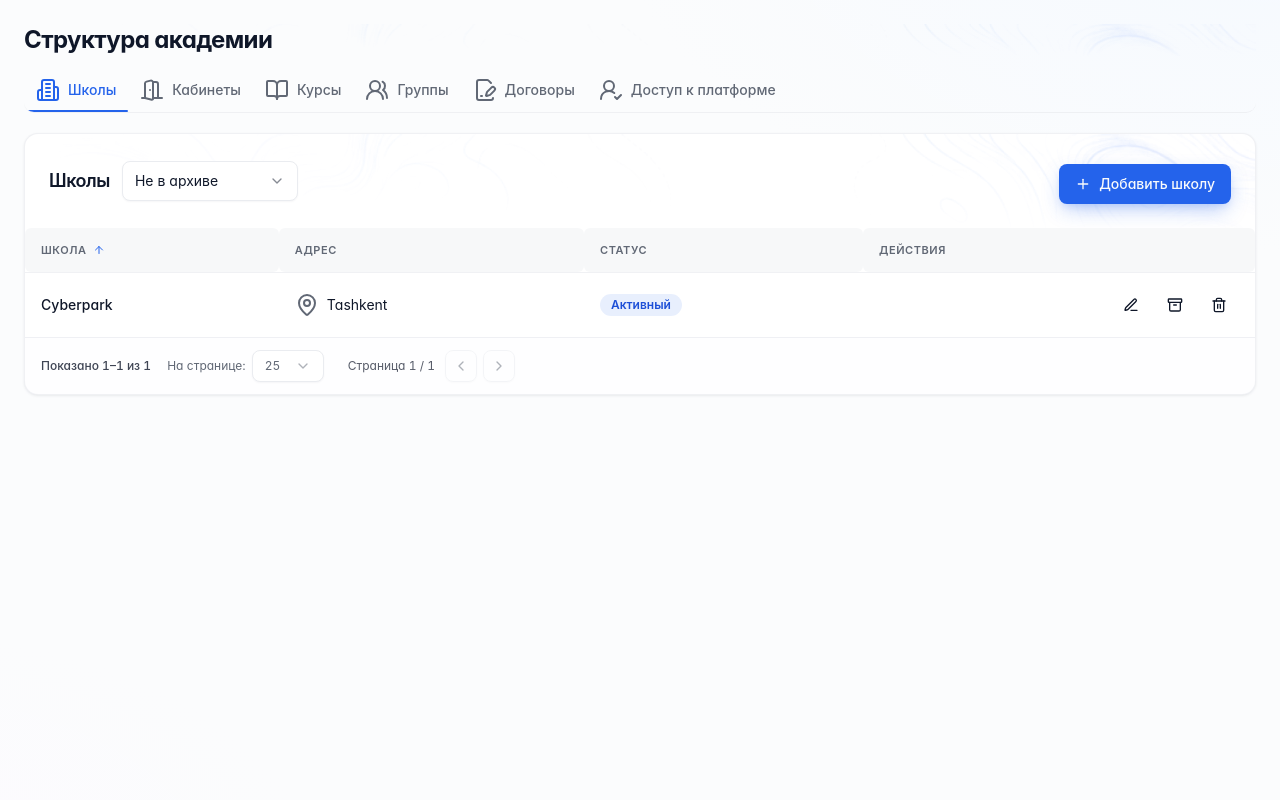
it: school timezone dropdown › defaults a new school to Tashkent and submits only the selected IANA value after an explicit save
Expected: the text "Cyberpark" is shown, x1=41 y1=296 x2=113 y2=312
Click the button "Добавить школу" at (1145, 184), box x1=1059 y1=164 x2=1231 y2=204
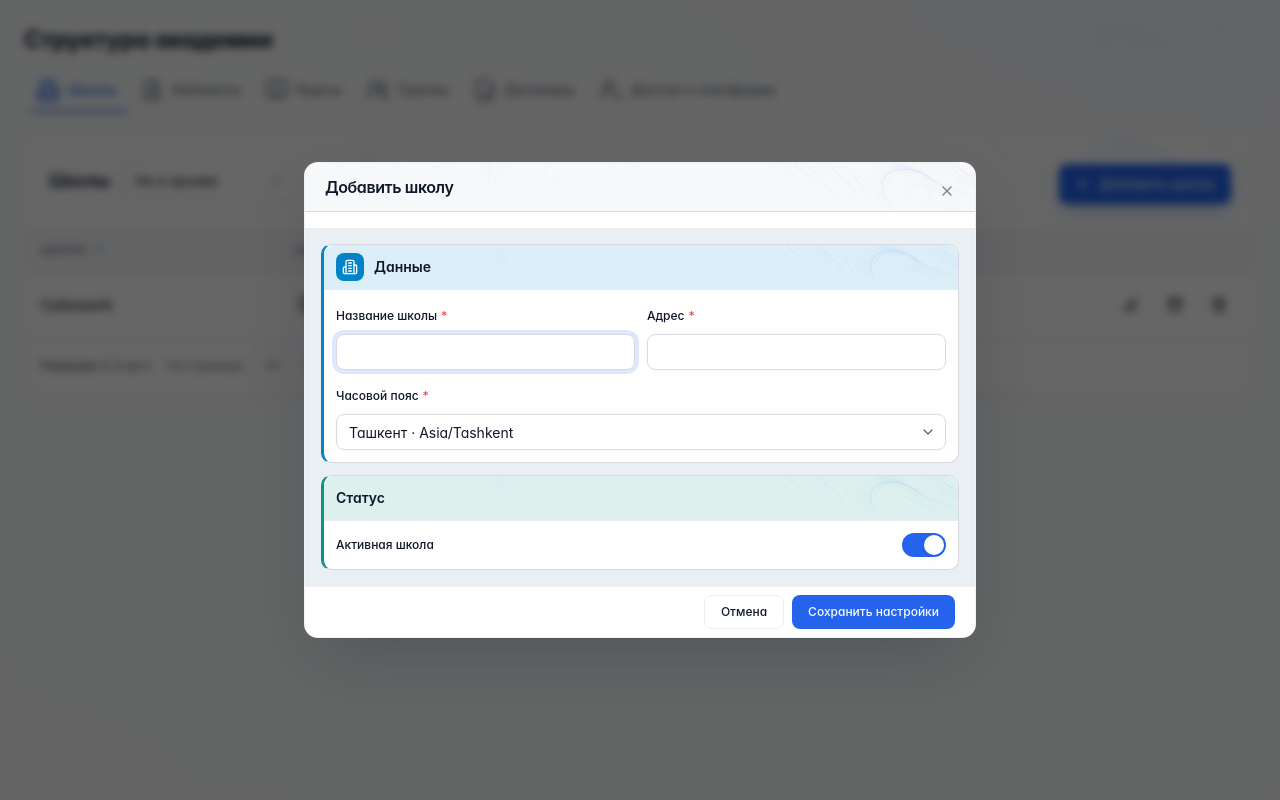
Type "New school" into the field labelled "Название школы" at (486, 352), box x1=336 y1=334 x2=635 y2=370
Type "Samarkand" into the field labelled "Адрес" at (796, 352), box x1=647 y1=334 x2=946 y2=370
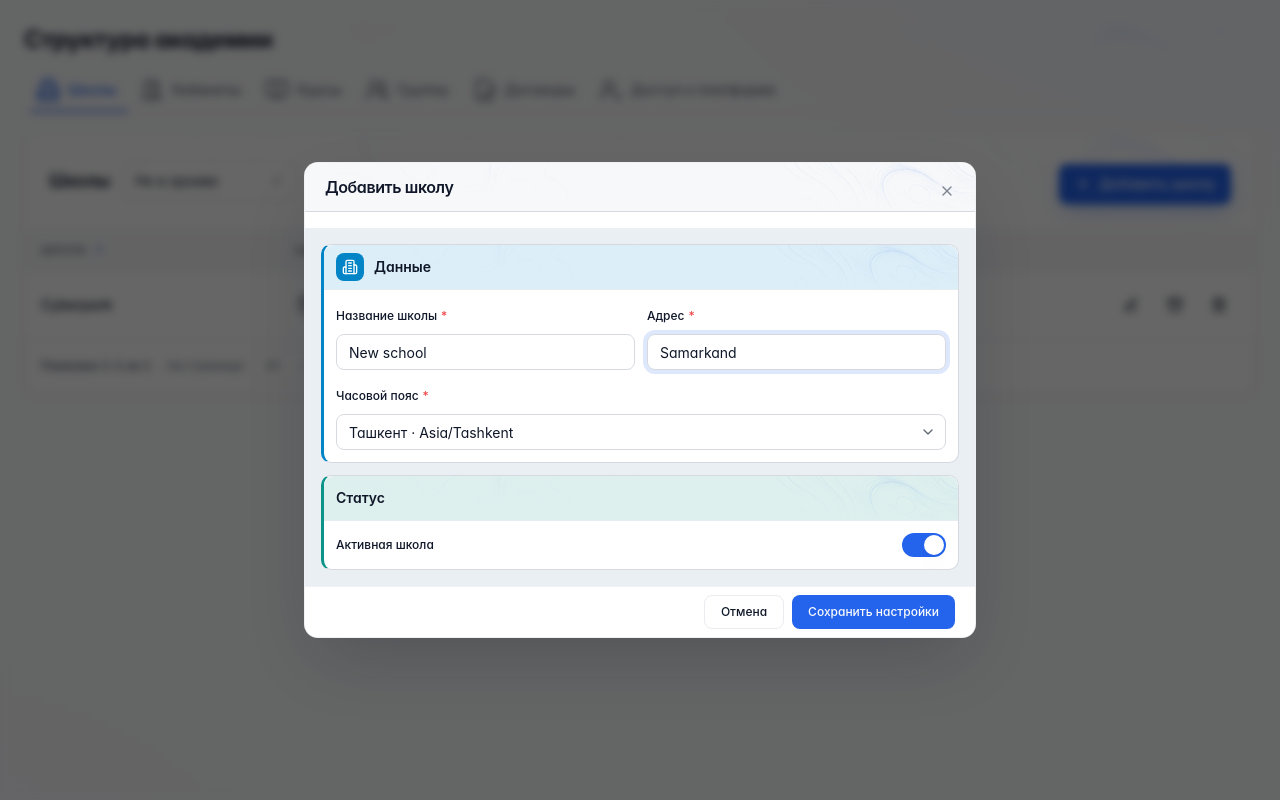
Click the dropdown labelled "Часовой пояс" at (641, 432), box x1=336 y1=414 x2=946 y2=450
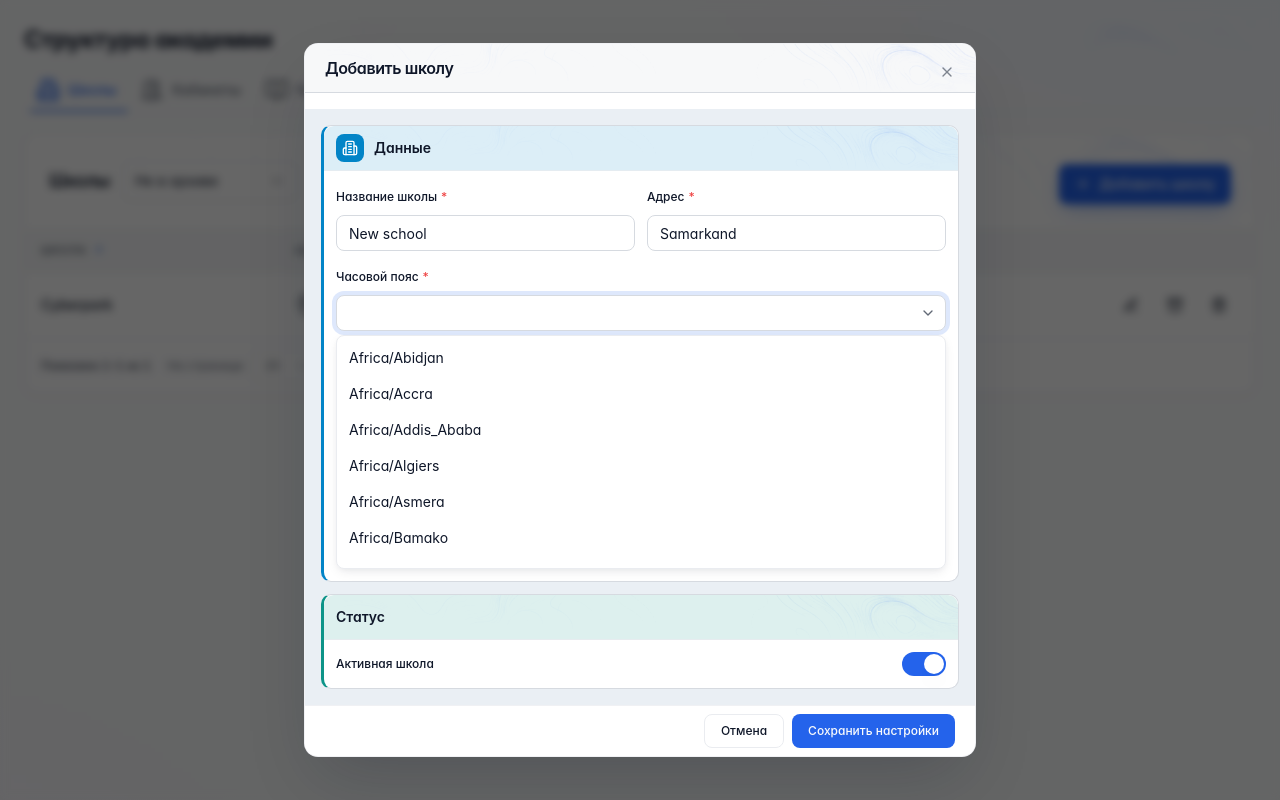
Type "Самарканд" into the dropdown labelled "Часовой пояс" at (641, 313), box x1=336 y1=295 x2=946 y2=331
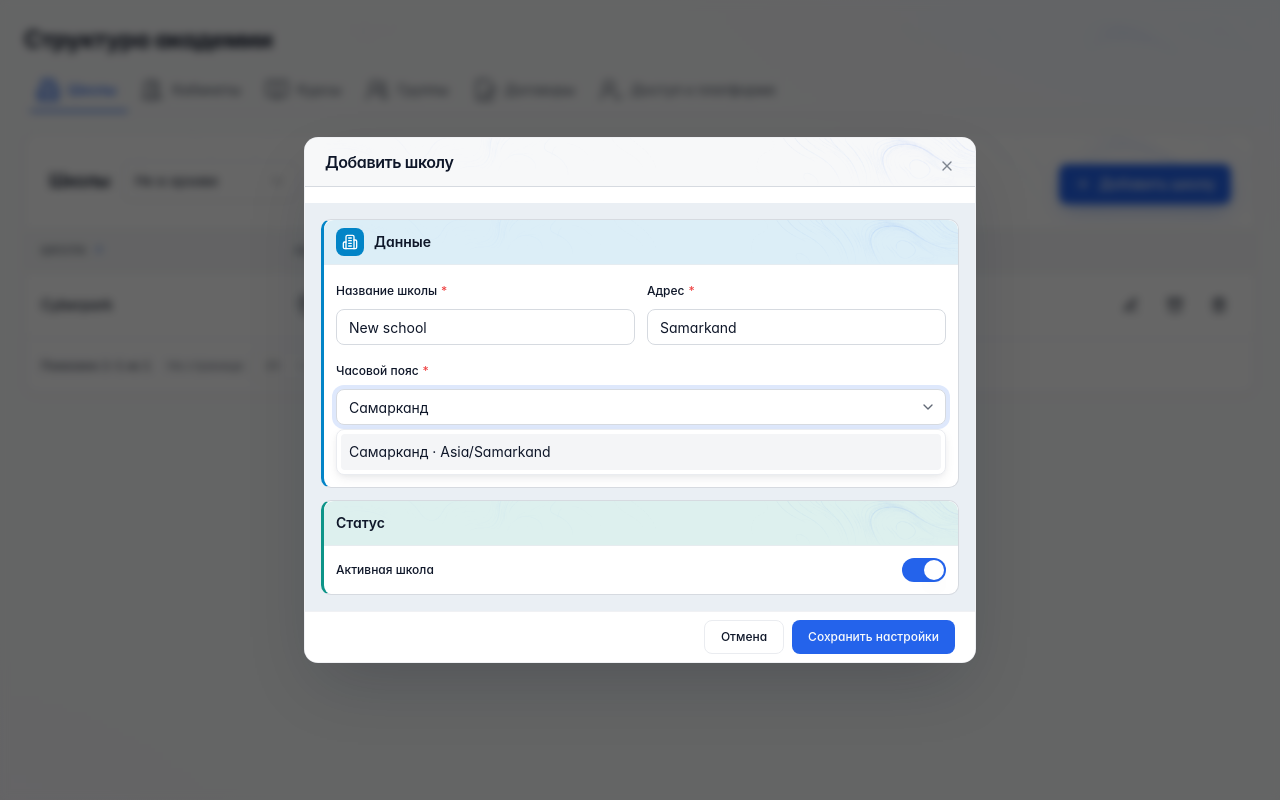
Click the option "Самарканд · Asia/Samarkand" at (450, 452), box x1=341 y1=434 x2=941 y2=470
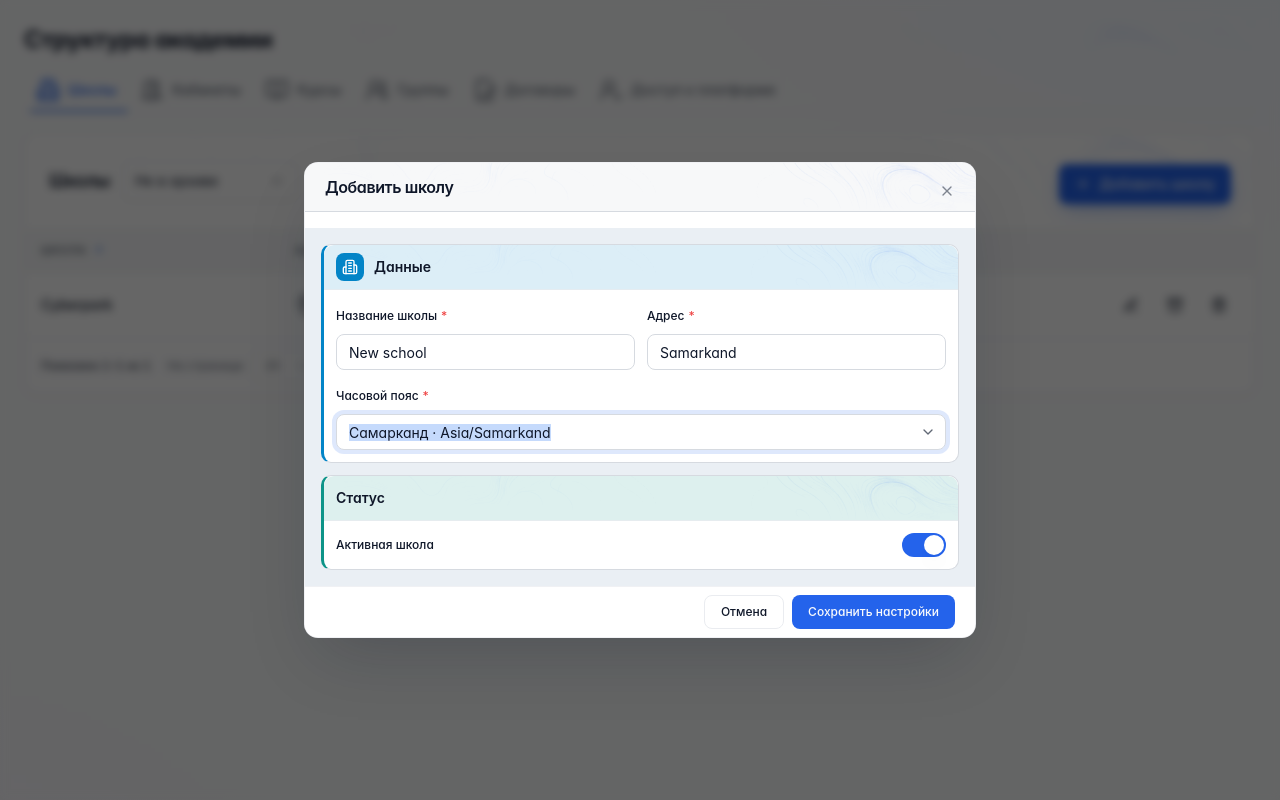
Expected: the list is gone
Click the button "Сохранить настройки" at (874, 612), box x1=792 y1=595 x2=955 y2=629
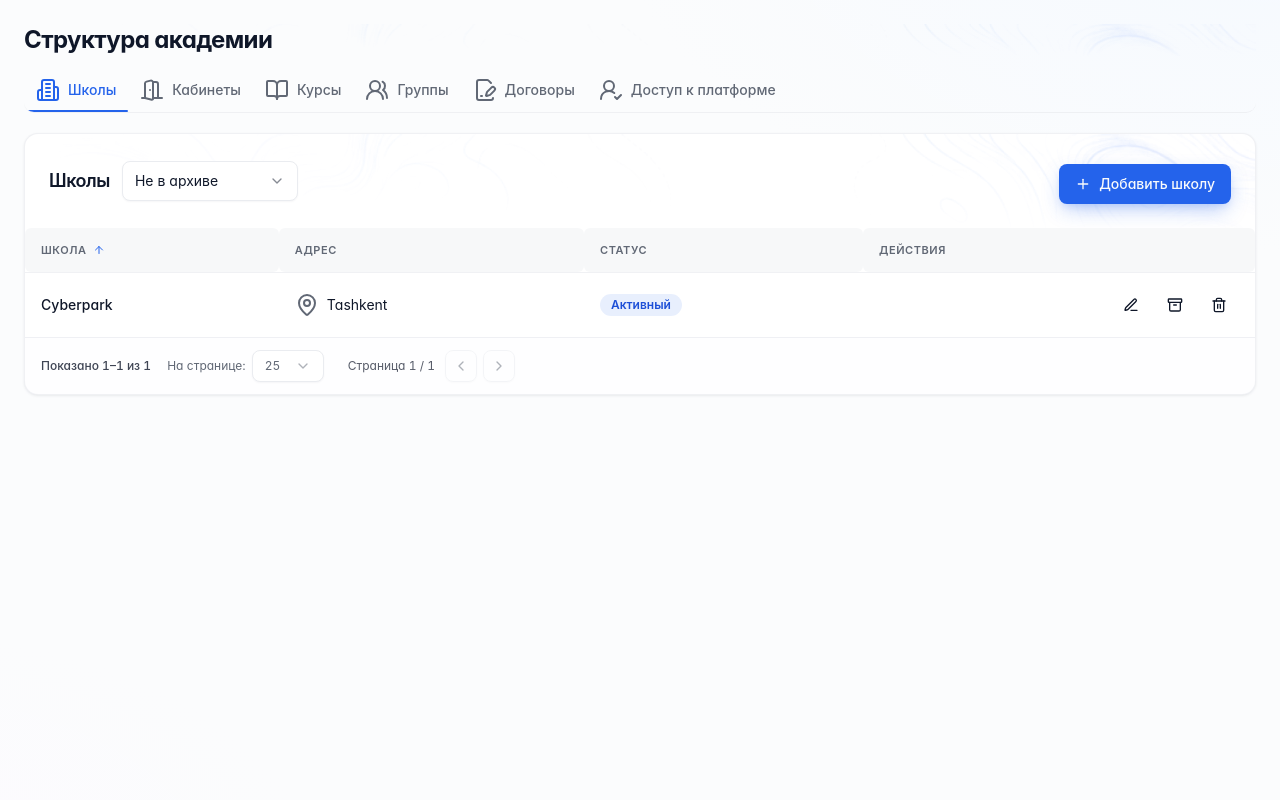
Expected: the dialog is gone
